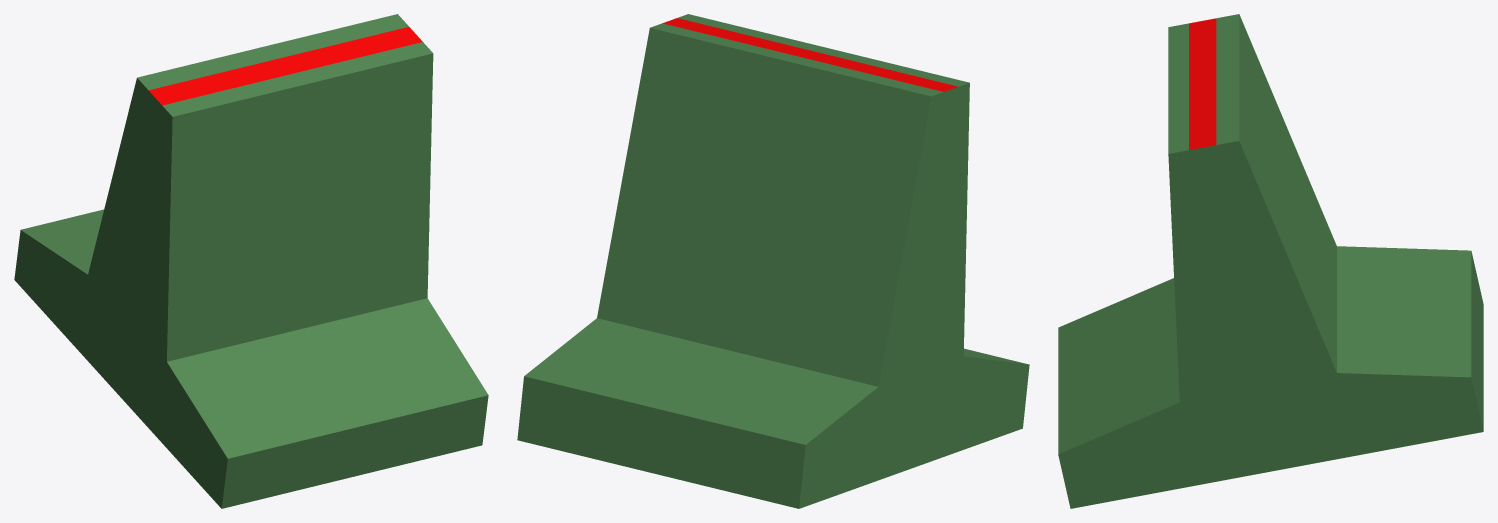
Rendered from fader.glb.
The picture shows the model from 3 angles, left to right: view 1: azimuth 30°, elevation 25°; view 2: azimuth 150°, elevation 25°; view 3: azimuth 270°, elevation 25°; orthographic projection. The views are drawn at different scales.
Visible parts, largest first — view 1: fader; view 2: fader; view 3: fader.
Boxes of the visible parts, x1,y1,x2,y2 form: fader: [14, 14, 488, 508]; fader: [517, 14, 1029, 508]; fader: [1058, 14, 1483, 508].
Size of the model in its own units: 5.43 by 7.35 by 7.7.
1 material, 1 textured.
